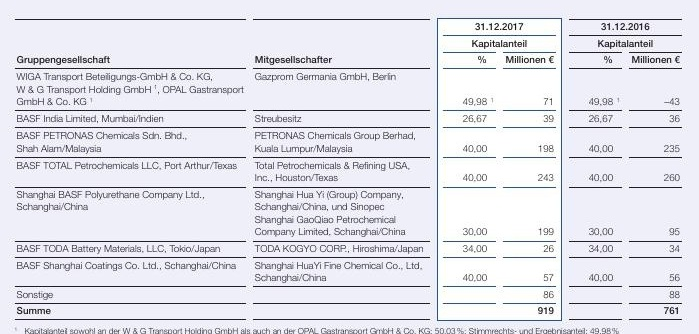table: (0, 0, 699, 334)
